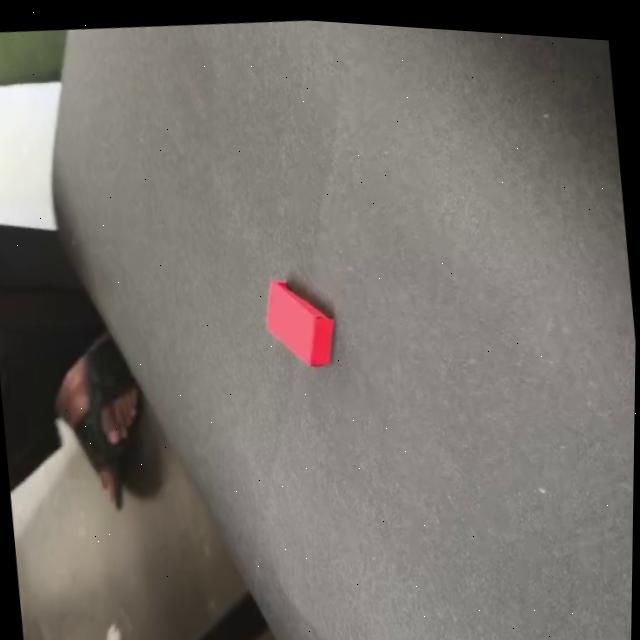red block: (258, 272, 339, 375)
